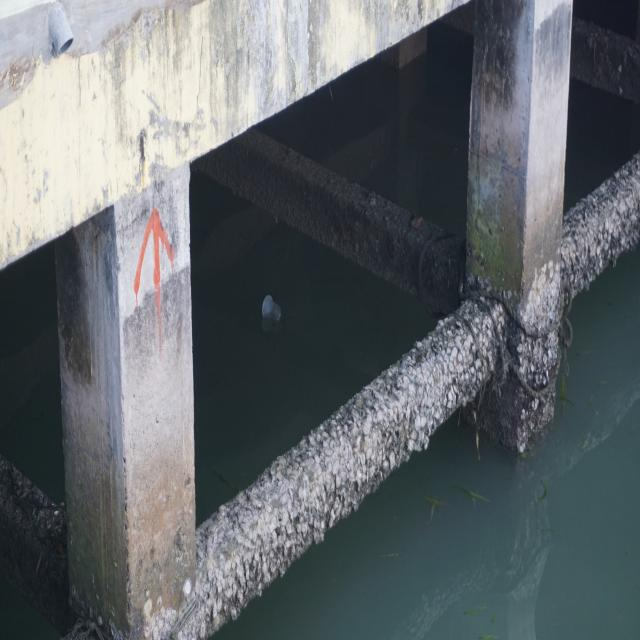Bungkus Minuman: (258, 288, 284, 327)
